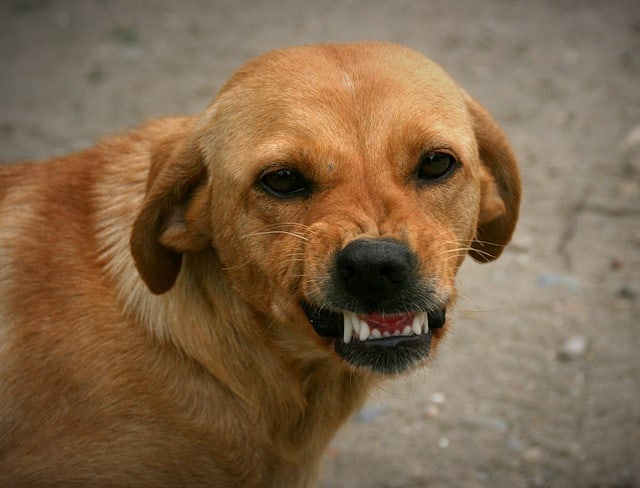Dog: (5, 38, 530, 488)
